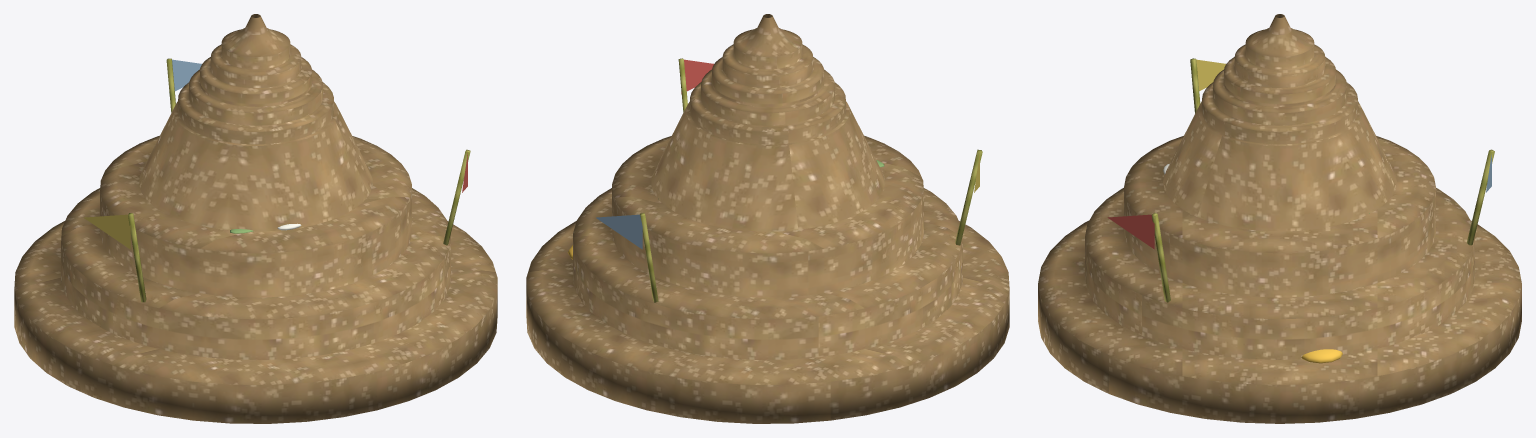
The model's file is gourd-prop-small-stupa-a.glb.
3 renders of one model, left to right at view 1: azimuth 30°, elevation 25°; view 2: azimuth 150°, elevation 25°; view 3: azimuth 270°, elevation 25°, orthographic.
Parts seen in each view (by area): view 1: sand, poles, flag1, flag2; view 2: sand, poles, flag2, flag0; view 3: sand, poles, flag0, flag1, marigolds.
Boxes of the visible parts, x1=… form: sand: x1=14, y1=14, x2=497, y2=423; poles: x1=128, y1=58, x2=470, y2=302; flag1: x1=84, y1=214, x2=130, y2=249; flag2: x1=169, y1=59, x2=201, y2=93; sand: x1=526, y1=14, x2=1009, y2=423; poles: x1=640, y1=58, x2=982, y2=302; flag2: x1=596, y1=214, x2=642, y2=249; flag0: x1=681, y1=59, x2=713, y2=93; sand: x1=1038, y1=14, x2=1521, y2=423; poles: x1=1151, y1=58, x2=1494, y2=302; flag0: x1=1107, y1=214, x2=1154, y2=249; flag1: x1=1196, y1=59, x2=1225, y2=90; marigolds: x1=1301, y1=349, x2=1342, y2=363.
Bounding box in the file's own units: 0.0539 × 0.0376 × 0.0539.
Materials: 8 (2 with a texture image).
